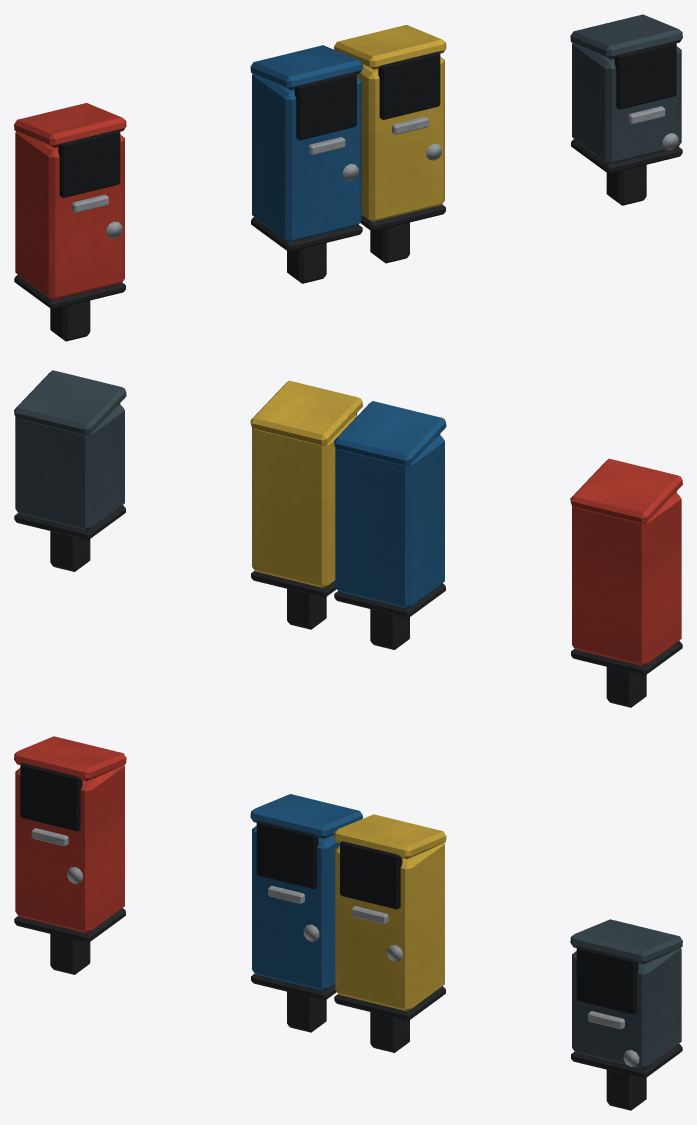
File: news_box.glb
3 views of the same model, one above another, from view 1: azimuth 30°, elevation 25°; view 2: azimuth 150°, elevation 25°; view 3: azimuth 330°, elevation 25° (orthographic).
Visible parts, largest first — view 1: news_box_v2, news_box_v1, news_box_v3; view 2: news_box_v2, news_box_v1, news_box_v3; view 3: news_box_v2, news_box_v1, news_box_v3.
Part boxes in pixels (x1=…): news_box_v2: x1=250, y1=25, x2=446, y2=283; news_box_v1: x1=14, y1=103, x2=126, y2=341; news_box_v3: x1=570, y1=14, x2=682, y2=205; news_box_v2: x1=250, y1=380, x2=446, y2=649; news_box_v1: x1=570, y1=458, x2=682, y2=707; news_box_v3: x1=14, y1=370, x2=126, y2=571; news_box_v2: x1=250, y1=794, x2=446, y2=1052; news_box_v1: x1=14, y1=736, x2=126, y2=974; news_box_v3: x1=570, y1=919, x2=682, y2=1110.
Bounding box in the file's own units: 3.64 × 1.22 × 0.4196.
2 materials, 2 textured.
